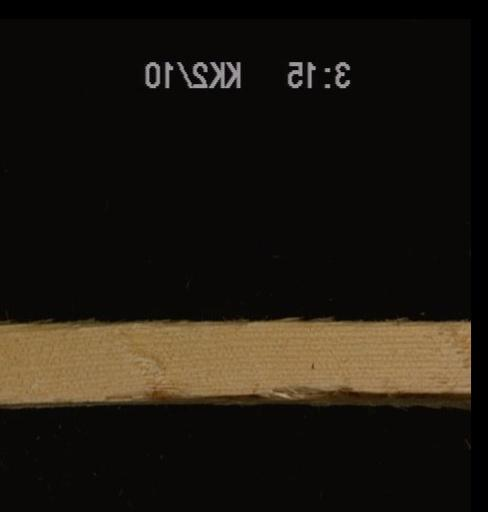wave: (111, 379, 469, 403)
